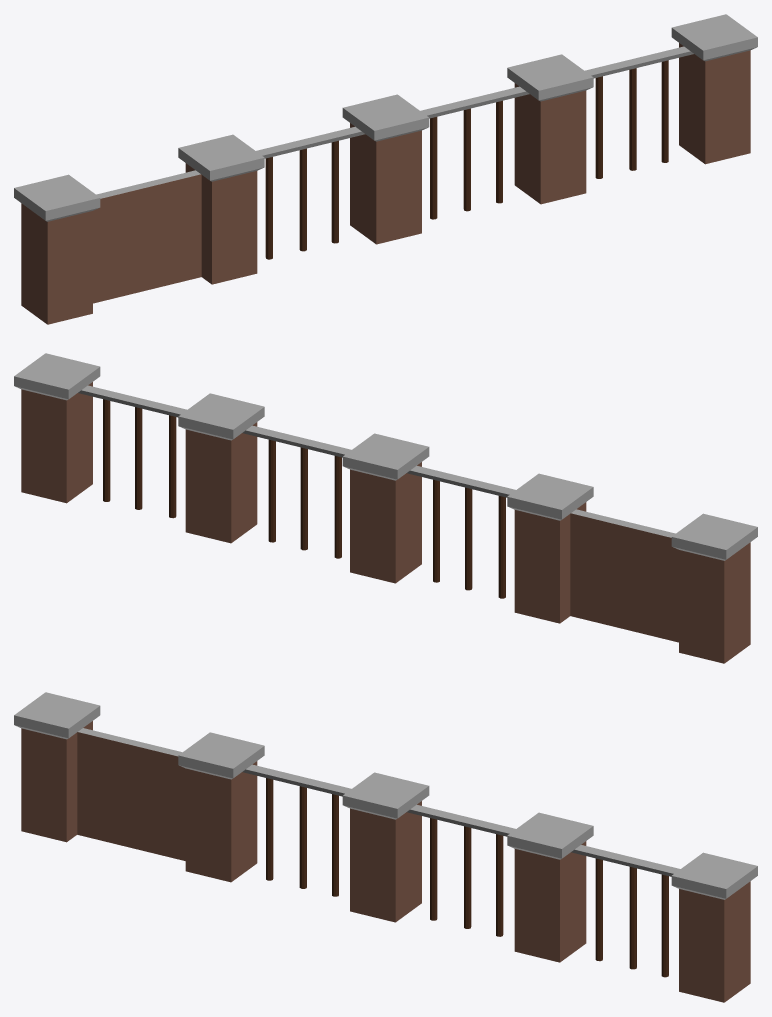
The model's file is Muro.obj.
The picture shows the model from 3 angles, top to bottom: view 1: azimuth 30°, elevation 25°; view 2: azimuth 150°, elevation 25°; view 3: azimuth 330°, elevation 25°; orthographic projection.
Parts seen in each view (by area): view 1: Cube, Cilindro; view 2: Cube, Cilindro; view 3: Cube, Cilindro.
Part boxes in pixels (x1,y1,x2,y2): Cube: (14,14,757,324); Cilindro: (265,60,668,259); Cube: (14,353,757,663); Cilindro: (103,399,505,598); Cube: (14,692,757,1002); Cilindro: (266,778,668,977).
Bounding box in the file's own units: 31.36 × 4.92 × 2.41.
